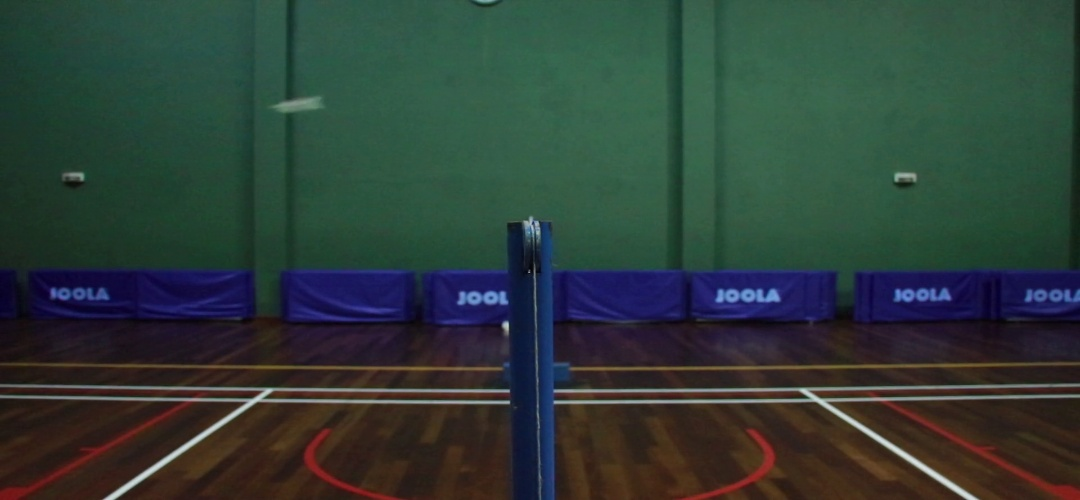c1: (238, 394, 274, 411)
c2: (797, 394, 844, 409)
net_level: (506, 219, 557, 297)
shuttle: (272, 95, 327, 113)
